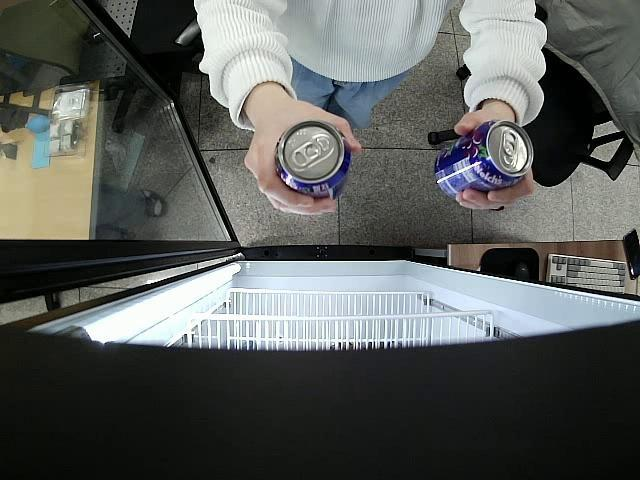14_welchsGrape: (434, 118, 533, 194), (274, 119, 350, 200)
